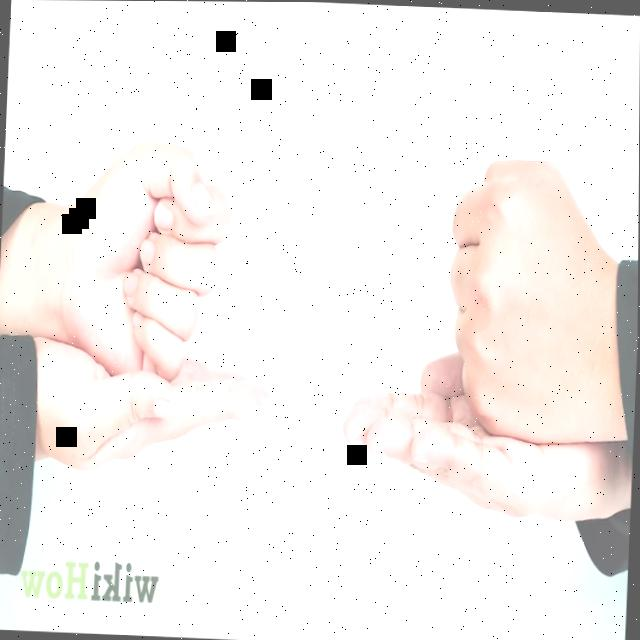Rock: (443, 153, 628, 448), (60, 130, 235, 379)
